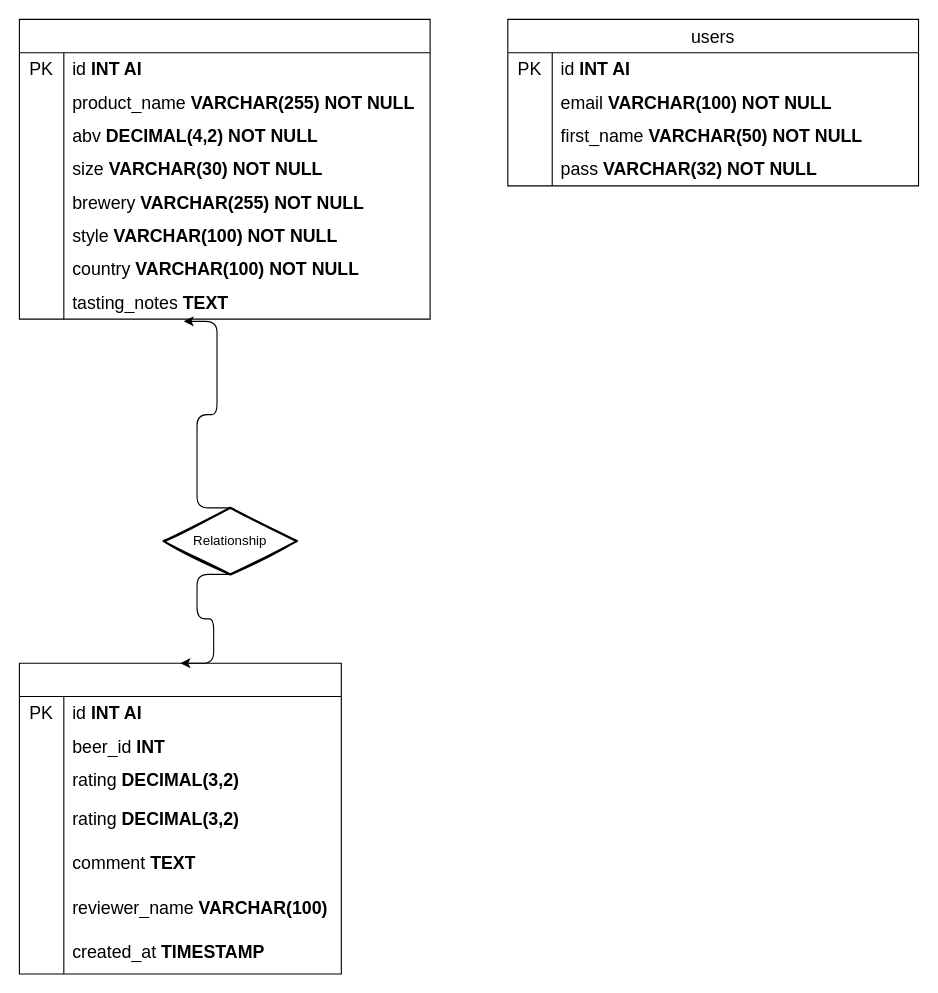
The diagram is 938 pixels wide and 993 high, and some of its shapes have lost their labels. Each missing label, with the box of its shape:
beers: (18, 18, 430, 319)
reviews: (18, 662, 341, 974)
